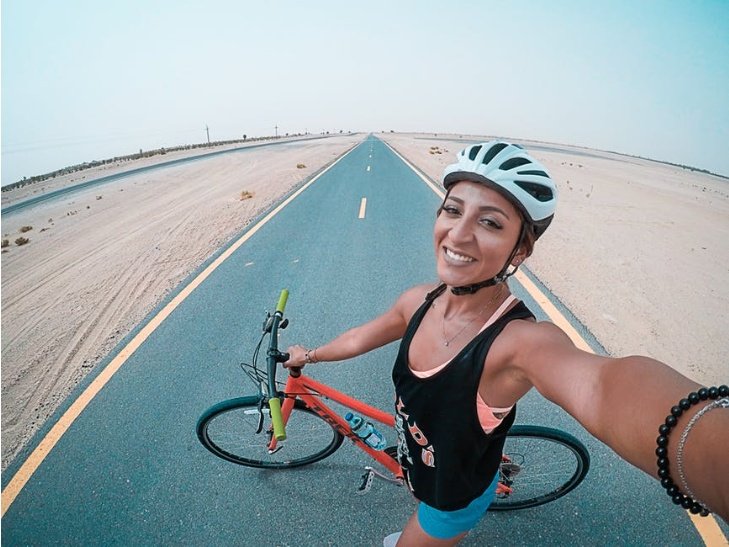face: (434, 180, 521, 287)
